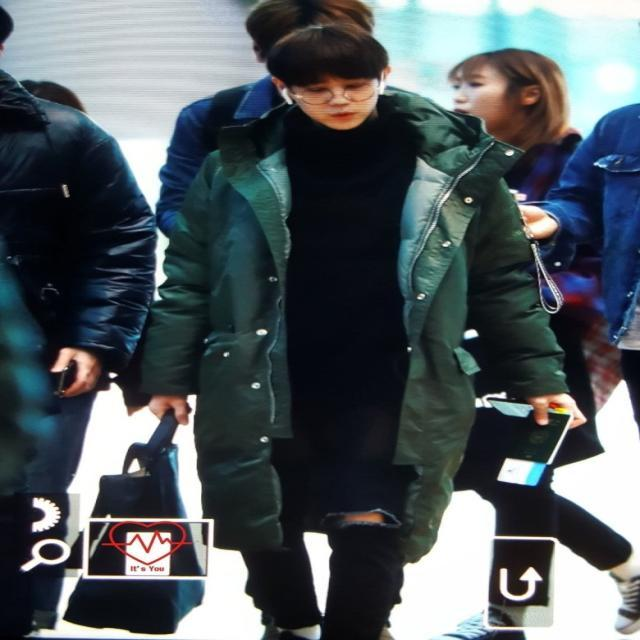earphone: (260, 73, 315, 127), (372, 63, 403, 105)
